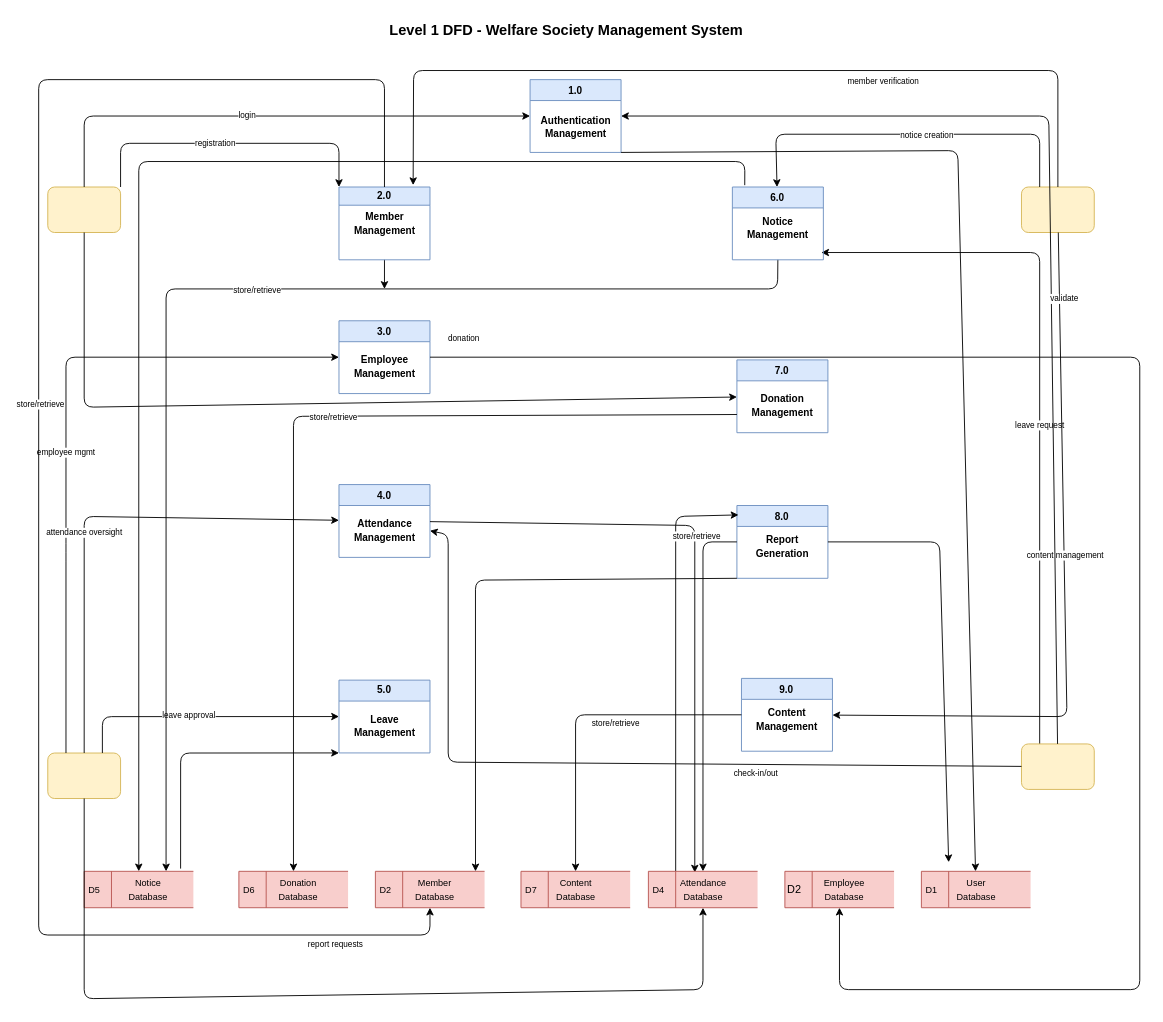
Some shapes in this 1163 by 1022 pixel diagram are drawn without their labels. Each missing label, with the centre of its shape:
"Employee" goes at point (1057, 766).
"Manager" goes at point (84, 775).
"Member" goes at point (84, 209).
"Secretary" goes at point (1057, 209).
